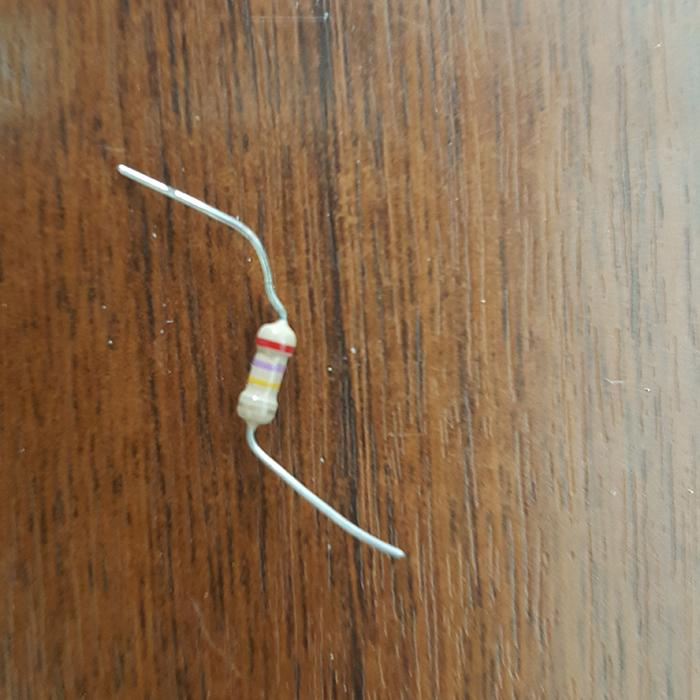resistor: (235, 318, 299, 427)
